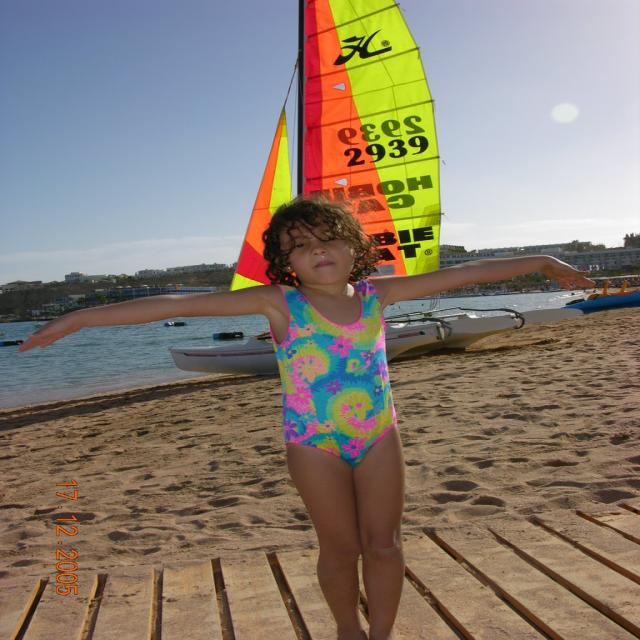Boat: (174, 0, 540, 370), (568, 274, 640, 312)
